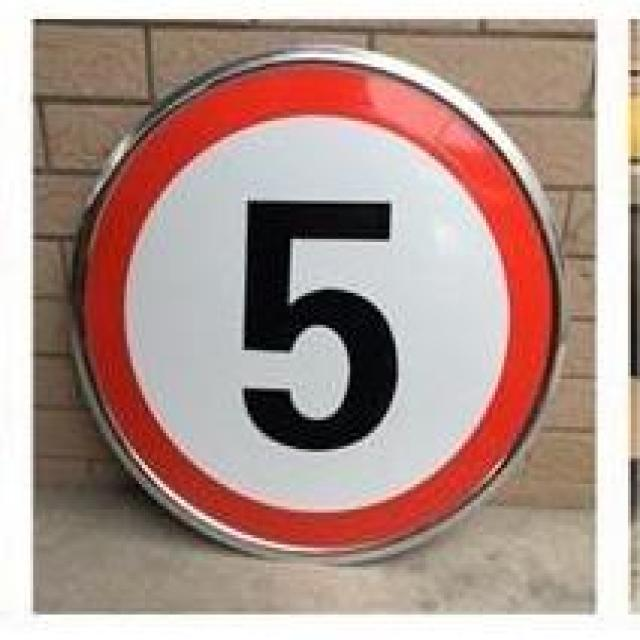speed limit 10: (69, 44, 569, 565)
